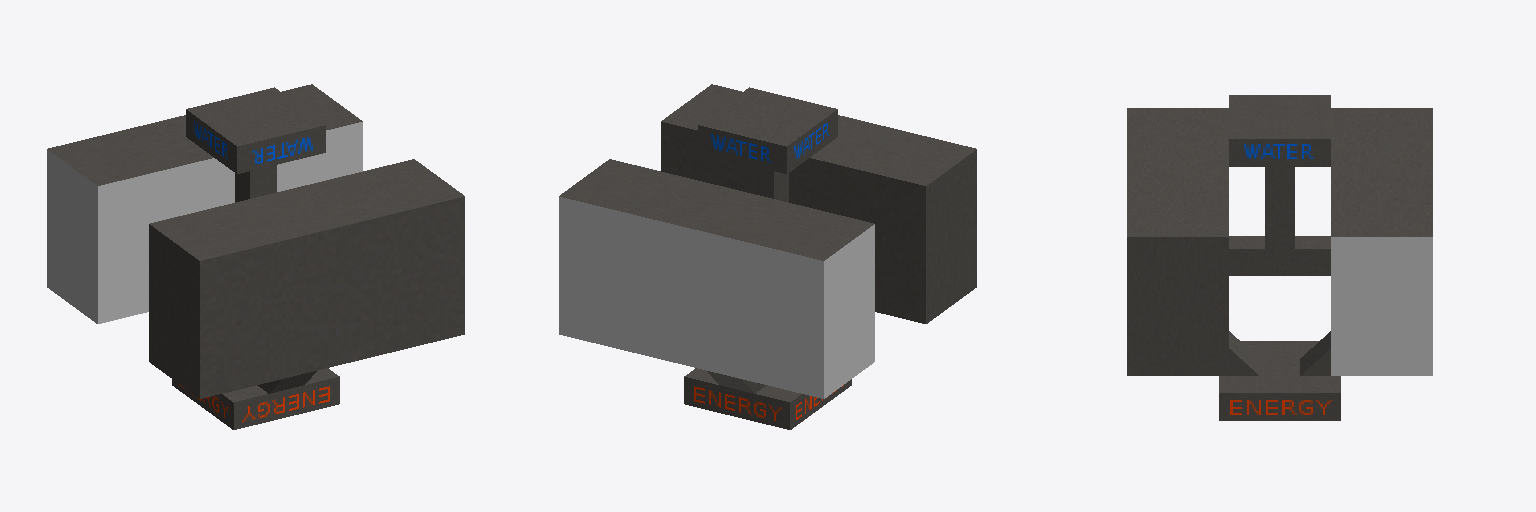
The picture shows the model from 3 angles: view 1: azimuth 30°, elevation 25°; view 2: azimuth 150°, elevation 25°; view 3: azimuth 270°, elevation 25°; orthographic projection.
Parts seen in each view (by area): view 1: Tank, Tank2_Tank.001, WaterIn_Cube.002, FuelCell_PowerInlet; view 2: Tank2_Tank.001, Tank, WaterIn_Cube.002, FuelCell_PowerInlet; view 3: Tank, Tank2_Tank.001, WaterIn_Cube.002, FuelCell_PowerInlet.
Part boxes in pixels (x1,y1,x2,y2): Tank: (149,159,464,398); Tank2_Tank.001: (47,84,362,323); WaterIn_Cube.002: (186,87,325,202); FuelCell_PowerInlet: (172,368,339,429); Tank2_Tank.001: (559,159,874,398); Tank: (661,84,976,323); WaterIn_Cube.002: (698,87,837,202); FuelCell_PowerInlet: (684,368,851,429); Tank: (1127,108,1228,375); Tank2_Tank.001: (1331,108,1432,375); WaterIn_Cube.002: (1229,95,1330,275); FuelCell_PowerInlet: (1219,331,1340,420).
Size of the model in its own units: 1 by 1 by 1.
Materials: 2 (1 with a texture image).